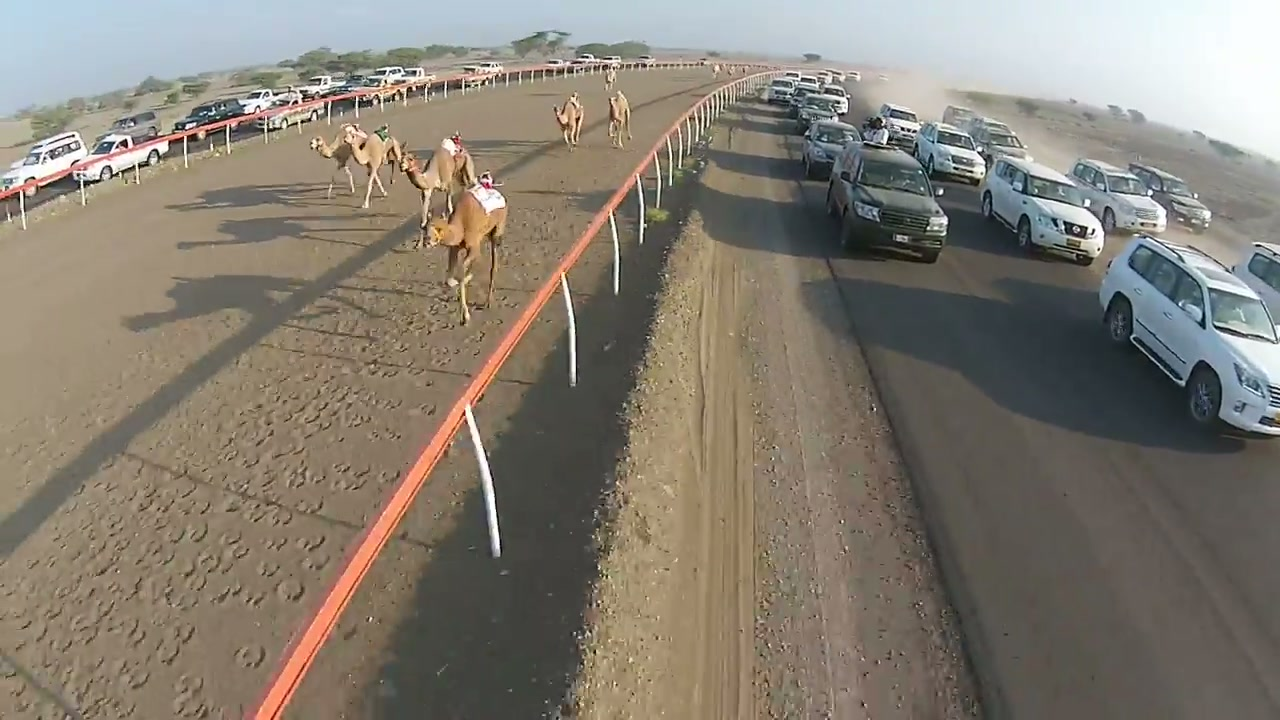animal_foot_print: (0, 280, 477, 713)
